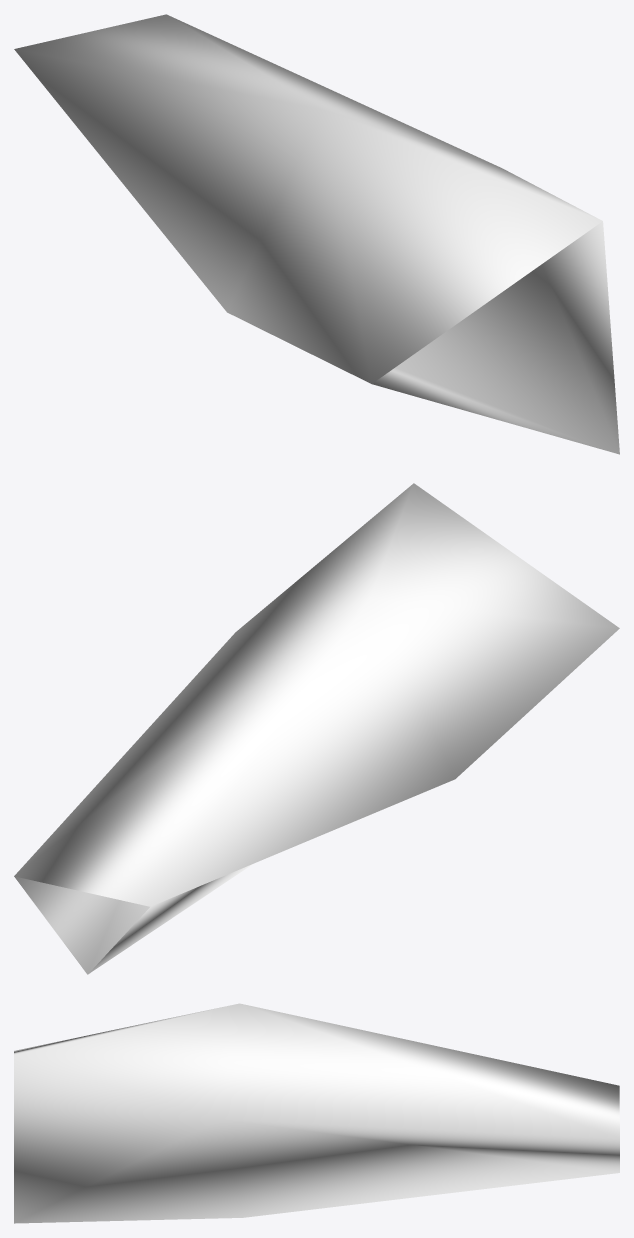
3 views of the same model, one above another, from view 1: azimuth 30°, elevation 25°; view 2: azimuth 150°, elevation 25°; view 3: azimuth 270°, elevation 25° (orthographic). The views are drawn at different scales.
Bounding box in the file's own units: 0.0352 × 0.0332 × 0.096.
Materials: 1 (1 with a texture image).
